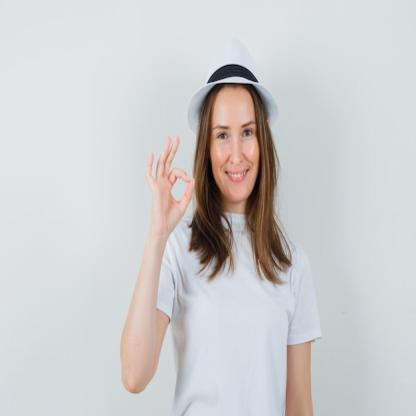ok: (144, 132, 196, 237)
